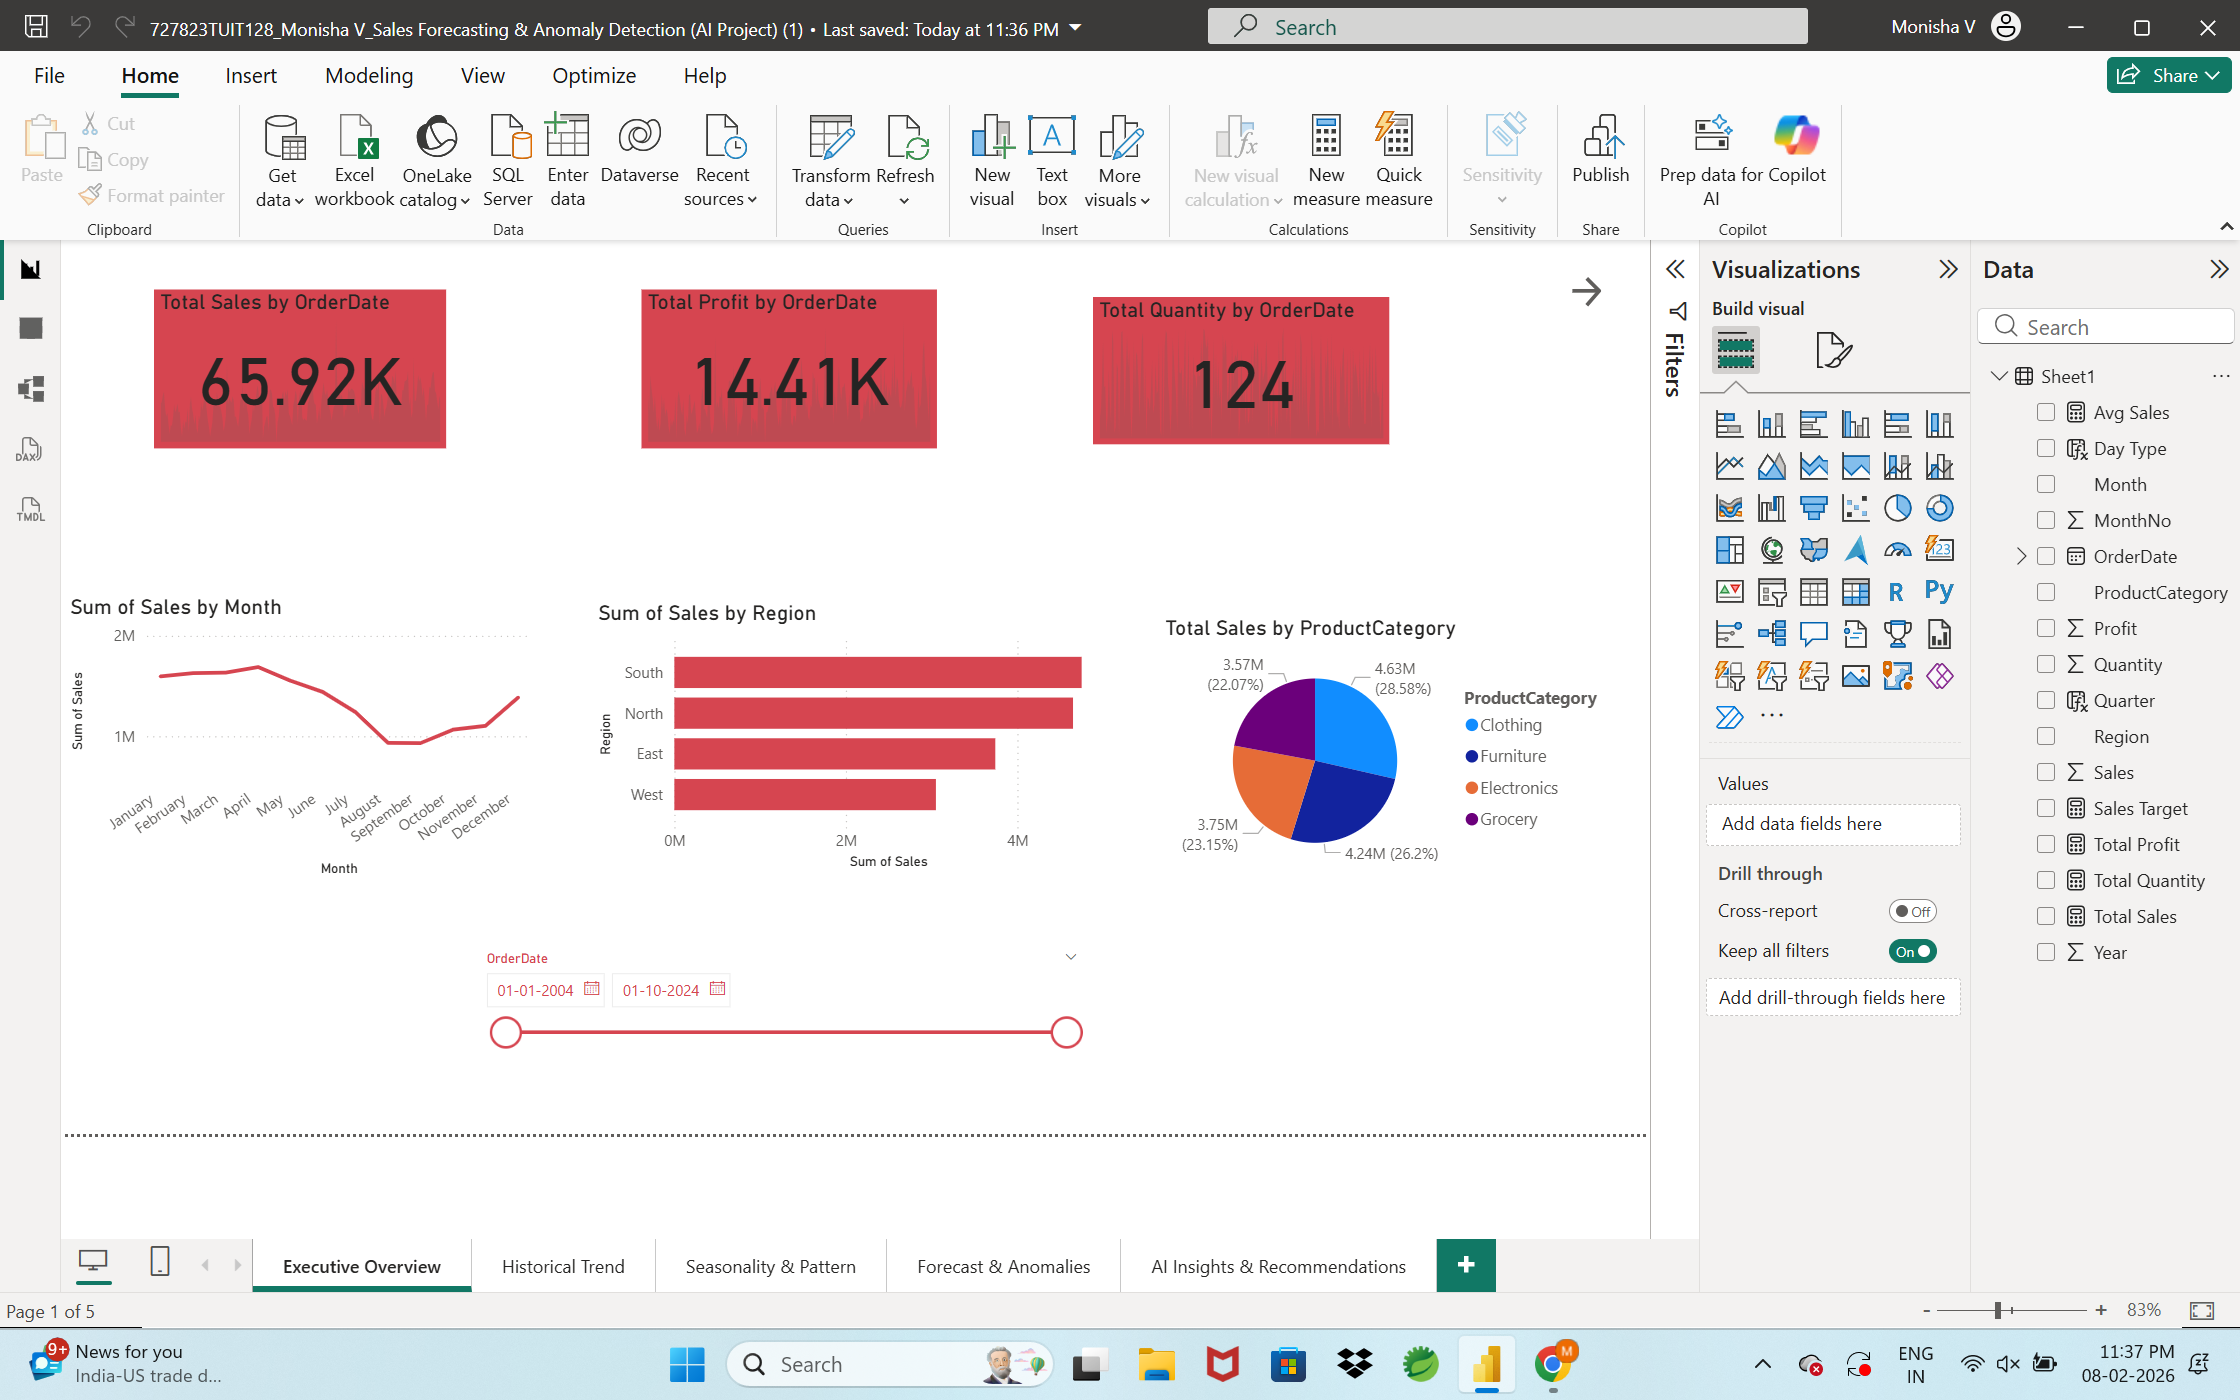

This screenshot's page, from the dashboard's own definition file:
{"tool":"powerbi","page":{"name":"Executive Overview","canvas":[1280,720],"ordinal":0},"visuals":[{"type":"kpi","fields":{"Indicator":["Sheet1.Total Sales"],"TrendLine":["Sheet1.OrderDate"]},"box":[74.4,40,235.6,127.8],"z":0},{"type":"kpi","fields":{"Indicator":["Sheet1.Total Profit"],"TrendLine":["Sheet1.OrderDate"]},"box":[467.8,40,237.8,127.8],"z":1000},{"type":"kpi","fields":{"Indicator":["Sheet1.Total Quantity"],"TrendLine":["Sheet1.OrderDate"]},"box":[831.1,45.6,238.9,118.9],"z":2000},{"type":"lineChart","fields":{"Category":["Sheet1.OrderDate.Variation.Date Hierarchy.Month"],"Y":["Sum(Sheet1.Sales)"]},"box":[2.6,285.3,380.9,231.7],"z":3000},{"type":"barChart","fields":{"Category":["Sheet1.Region"],"Y":["Sum(Sheet1.Sales)"]},"box":[428,290.6,425.4,221.2],"z":4000},{"type":"slicer","fields":{"Values":["Sheet1.OrderDate"]},"box":[329.8,566.7,501.3,92.9],"z":5000},{"type":"actionButton","box":[1212,24.9,32.7,32.7],"z":6000},{"type":"pieChart","fields":{"Category":["Sheet1.ProductCategory"],"Y":["Sheet1.Total Sales"]},"box":[884.8,302.3,371.7,214.7],"z":8000}]}

Visuals, with their boxes on the page's 1280x720 design canvas (x1, y1, x2, y2). These are canvas units, not pixel positions in the 2240x1400 screenshot, which may show the page scaled, cropped or inside an application window:
kpi - Sheet1.Total Sales x Sheet1.OrderDate: crop(74, 40, 310, 168)
kpi - Sheet1.Total Profit x Sheet1.OrderDate: crop(468, 40, 706, 168)
kpi - Sheet1.Total Quantity x Sheet1.OrderDate: crop(831, 46, 1070, 164)
lineChart - Sheet1.OrderDate.Variation.Date Hierarchy.Month x Sum(Sheet1.Sales): crop(3, 285, 384, 517)
barChart - Sheet1.Region x Sum(Sheet1.Sales): crop(428, 291, 853, 512)
slicer - Sheet1.OrderDate: crop(330, 567, 831, 660)
actionButton: crop(1212, 25, 1245, 58)
pieChart - Sheet1.ProductCategory x Sheet1.Total Sales: crop(885, 302, 1256, 517)
